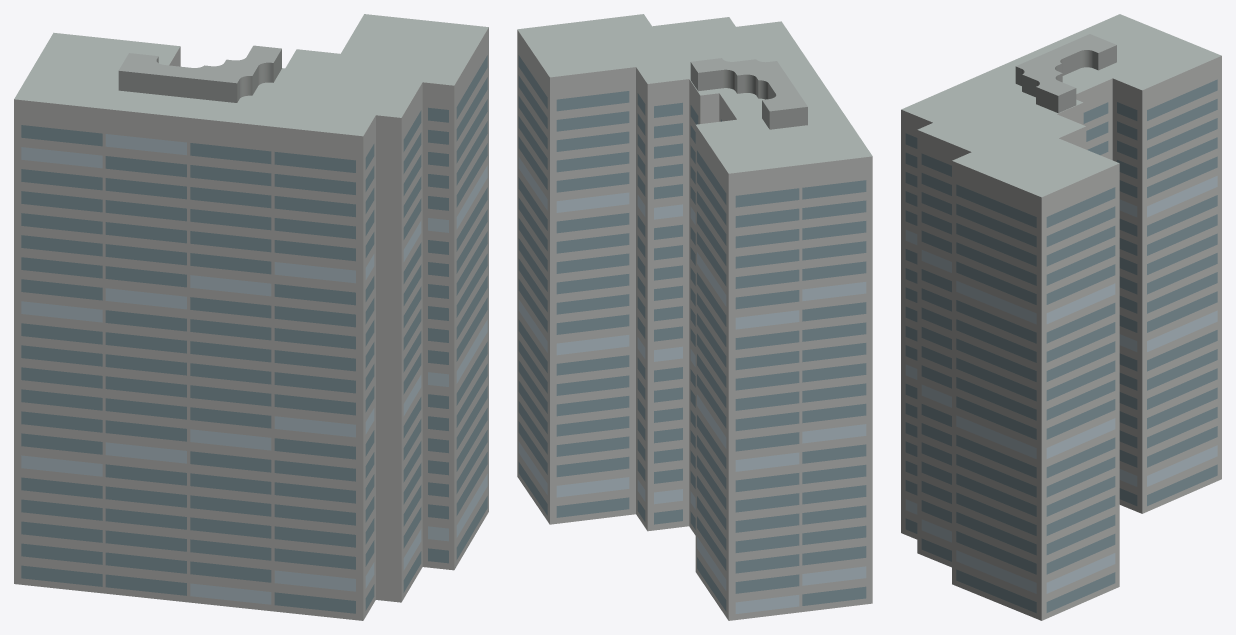
The model's file is fallback-mapo-grang-xi-111.glb.
3 views of the same model, side by side, from view 1: azimuth 30°, elevation 25°; view 2: azimuth 150°, elevation 25°; view 3: azimuth 270°, elevation 25° (orthographic). The views are drawn at different scales.
Visible parts, largest first — view 1: fallback-mapo-grang-xi-111; view 2: fallback-mapo-grang-xi-111; view 3: fallback-mapo-grang-xi-111.
Boxes of the visible parts, x1,y1,x2,y2 form: fallback-mapo-grang-xi-111: (14, 14, 488, 620); fallback-mapo-grang-xi-111: (517, 14, 872, 620); fallback-mapo-grang-xi-111: (901, 14, 1221, 620).
Bounding box in the file's own units: 54.43 × 61 × 40.23.
